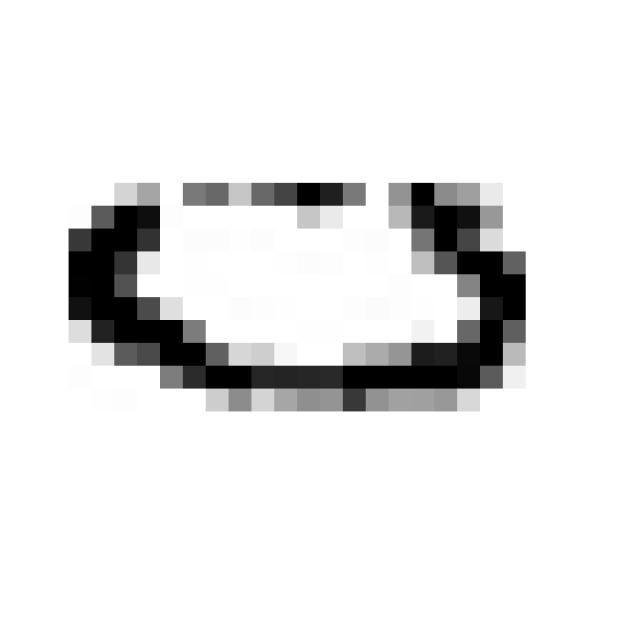5 -five-: (46, 160, 545, 429)
